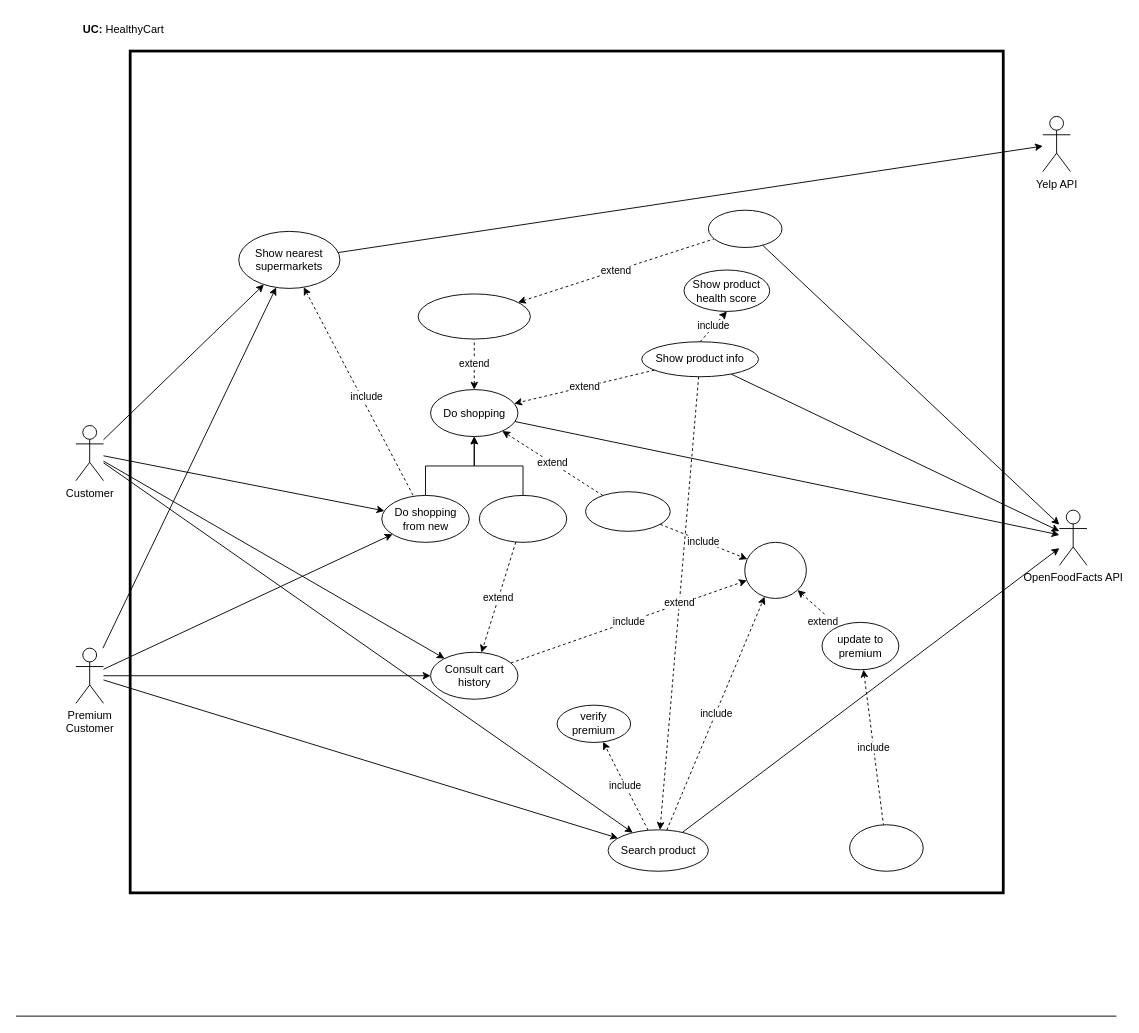
The diagram is 1139 pixels wide and 1033 high, and some of its shapes have lost their labels. The shapes that lost their labels are listed below. From the top down, each one's centre as x and y in pixels, then its label:
At [744,228]: "Show cart health score".
At [473,316]: "Consult shopping cart".
At [522,518]: "Do shopping from old".
At [627,511]: "save cart".
At [775,569]: "Log in".
At [886,847]: "verify not premium".
